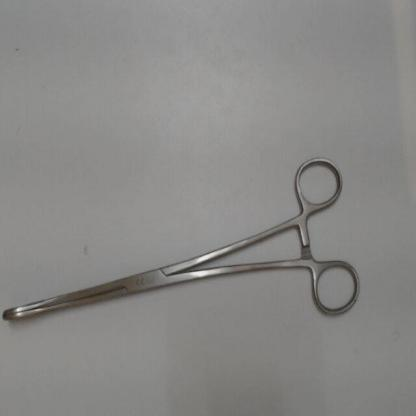Sponge Forceps: (2, 142, 368, 330)
